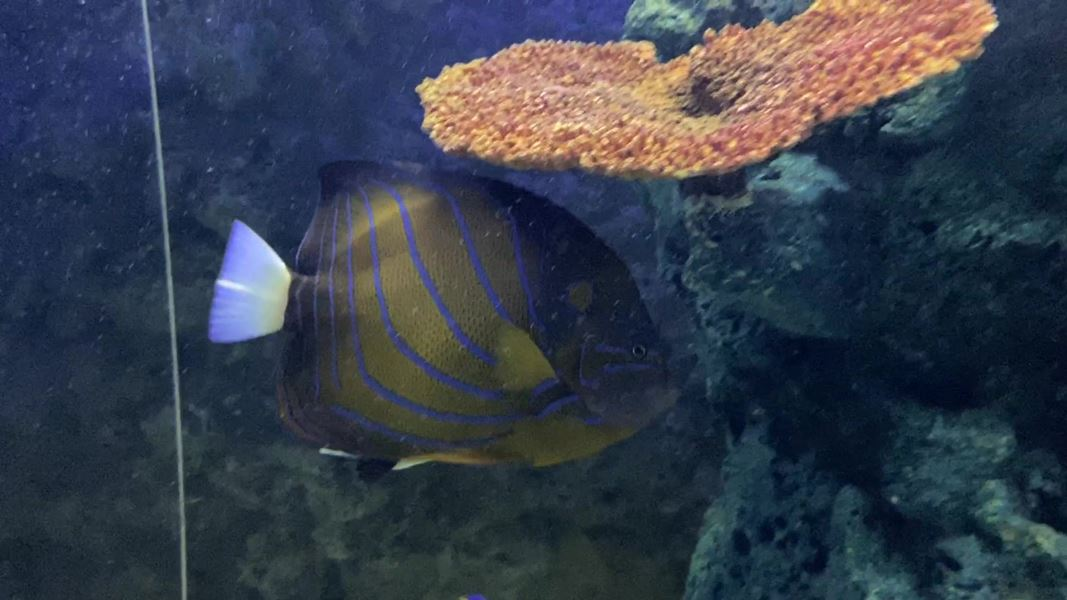Blue ring angelfish: (176, 143, 703, 501)
